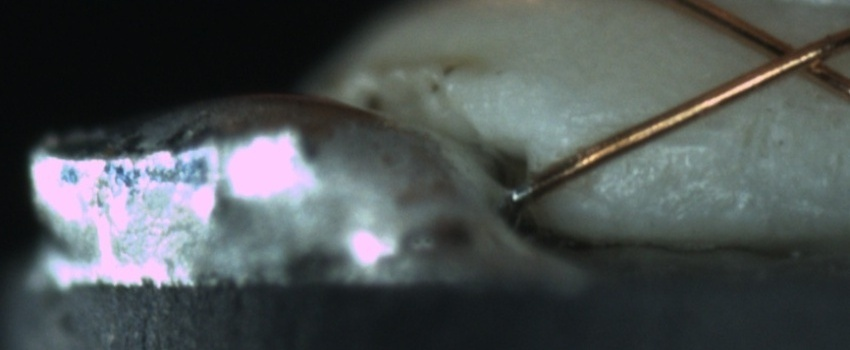CL: (743, 23, 845, 88)
DL: (567, 101, 717, 156)
TS: (507, 178, 535, 204)
